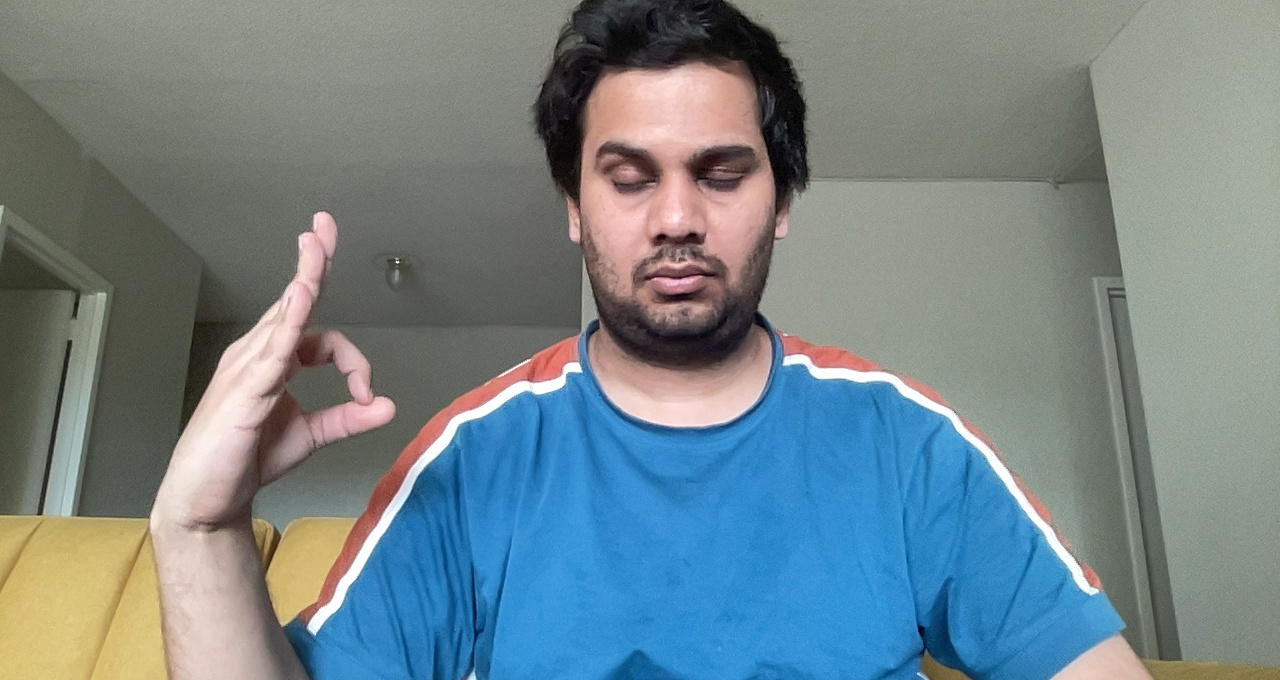ok: (175, 200, 407, 518)
